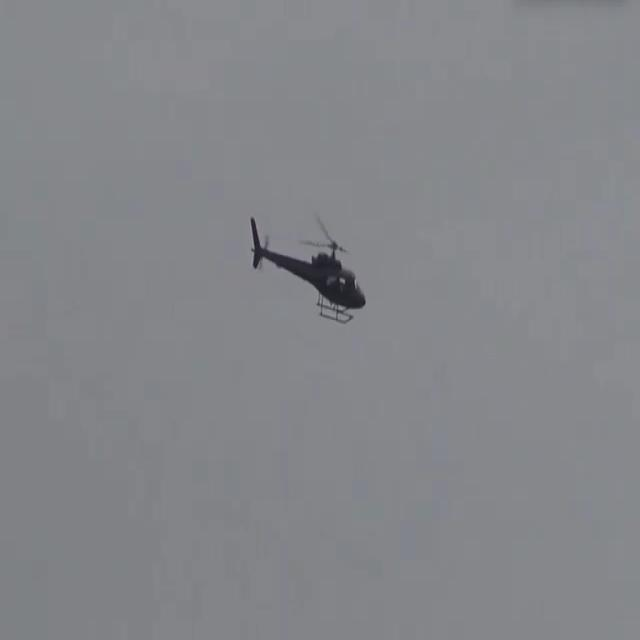Helicopter: (249, 198, 368, 350)
